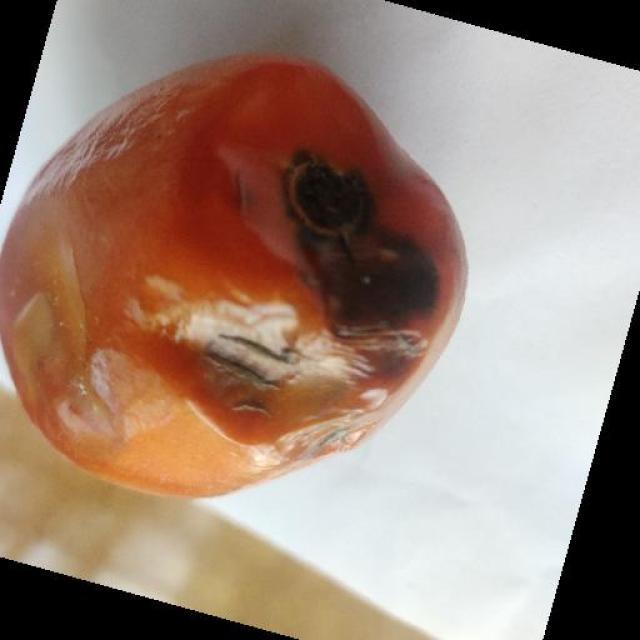Rotten Tomato: (5, 35, 474, 520)
